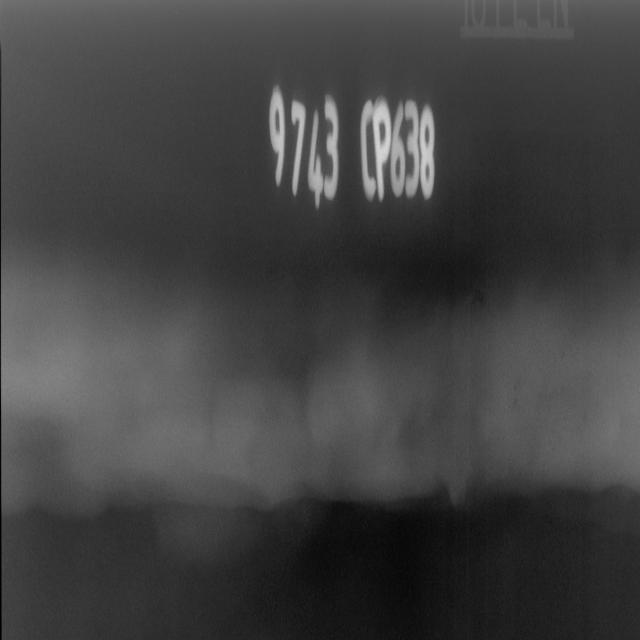MR: (157, 198, 493, 583)
